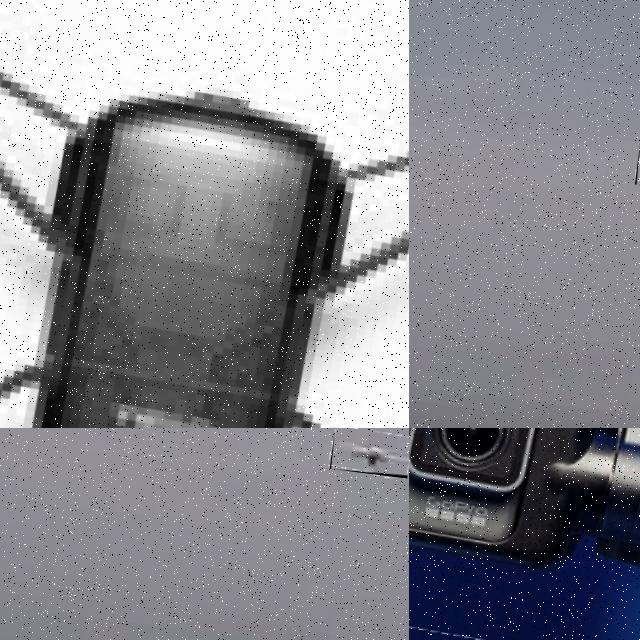0: (329, 428, 409, 478)
drone: (0, 0, 409, 428), (409, 428, 640, 640)
